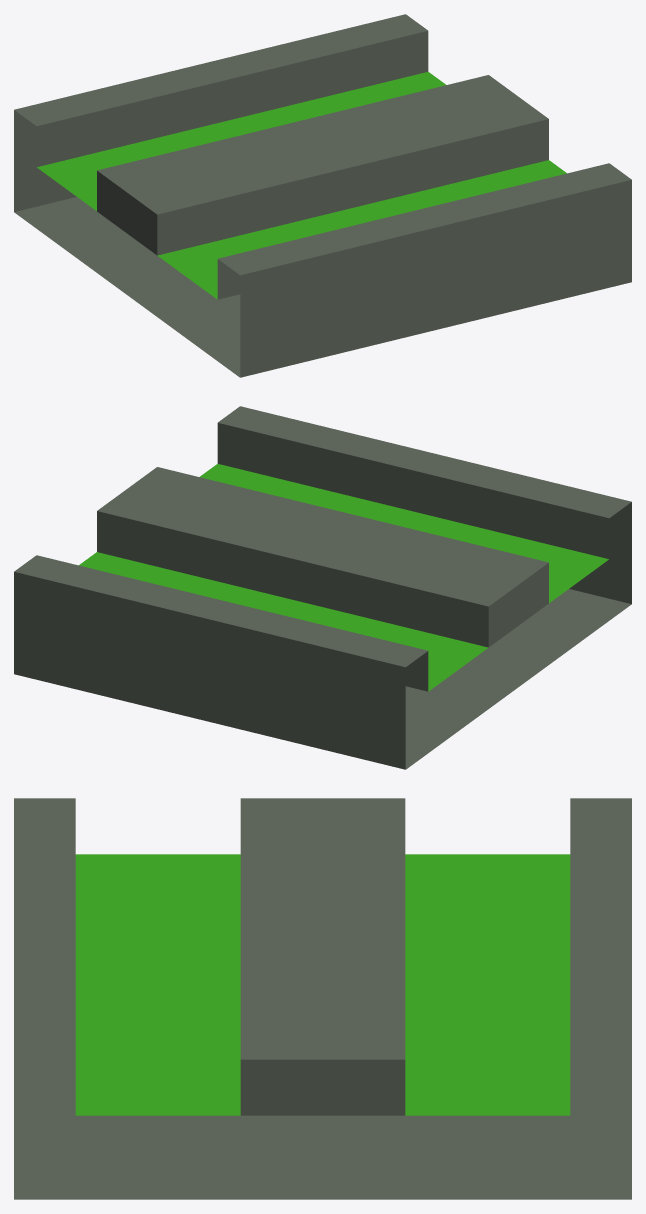
The model's file is StraightDualLane.fbx.
The picture shows the model from 3 angles, top to bottom: view 1: azimuth 30°, elevation 25°; view 2: azimuth 150°, elevation 25°; view 3: azimuth 270°, elevation 25°; orthographic projection. The views are drawn at different scales.
Parts seen in each view (by area): view 1: StraightDualLane; view 2: StraightDualLane; view 3: StraightDualLane.
Part boxes in pixels (left/top/right/bottom): StraightDualLane: left=14, top=14, right=631, bottom=377; StraightDualLane: left=14, top=406, right=631, bottom=769; StraightDualLane: left=14, top=798, right=631, bottom=1199.
Bounding box in the file's own units: 200 × 50 × 200.
